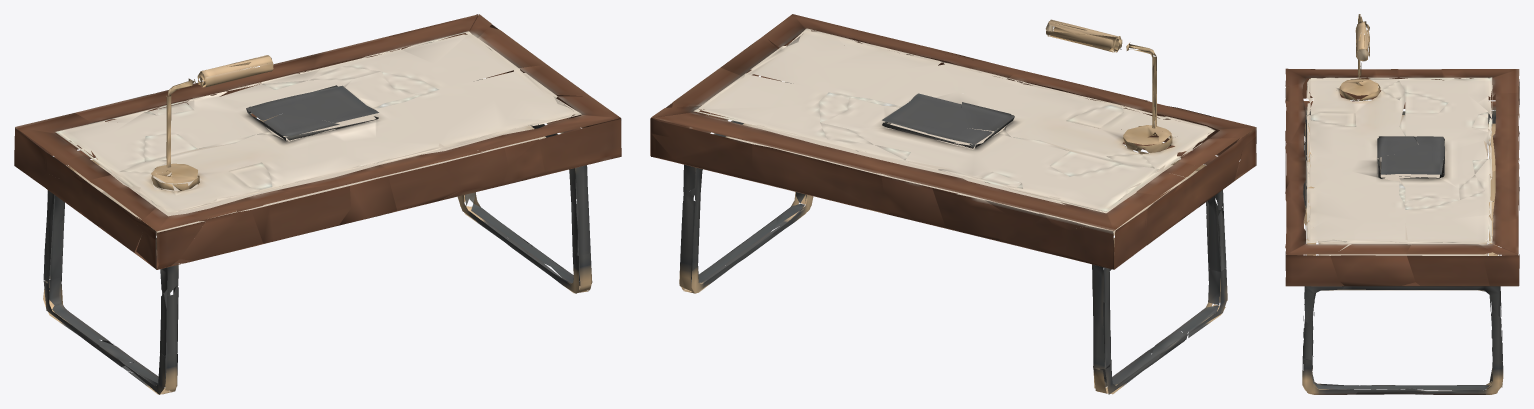
File: exec_desk.glb
3 views of the same model, side by side, from view 1: azimuth 30°, elevation 25°; view 2: azimuth 150°, elevation 25°; view 3: azimuth 270°, elevation 25° (orthographic). The views are drawn at different scales.
Visible parts, largest first — view 1: LO.001; view 2: LO.001; view 3: LO.001.
Boxes of the visible parts, x1=… form: LO.001: x1=14, y1=14, x2=621, y2=394; LO.001: x1=650, y1=14, x2=1256, y2=394; LO.001: x1=1285, y1=14, x2=1519, y2=394.
Size of the model in its own units: 2 by 1.16 by 1.06.
Materials: 1 (1 with a texture image).
